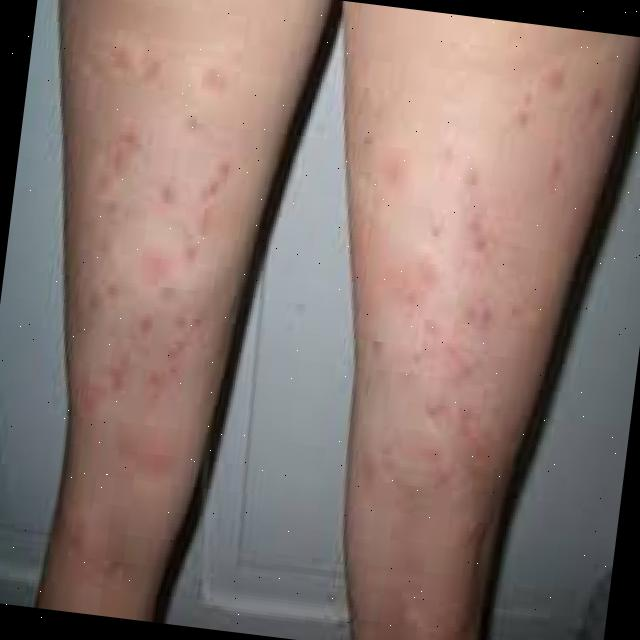kan emici bocekler: (385, 248, 436, 331), (181, 59, 233, 120), (130, 248, 166, 293), (539, 61, 567, 103)
